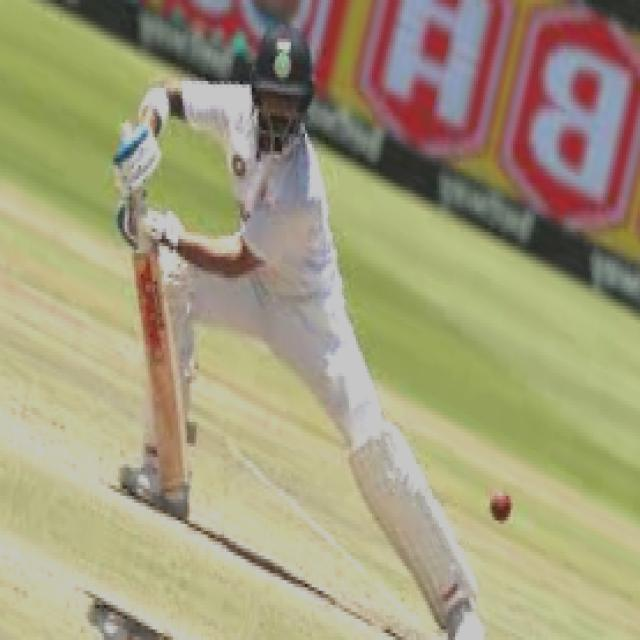toe: (155, 449, 190, 495)
